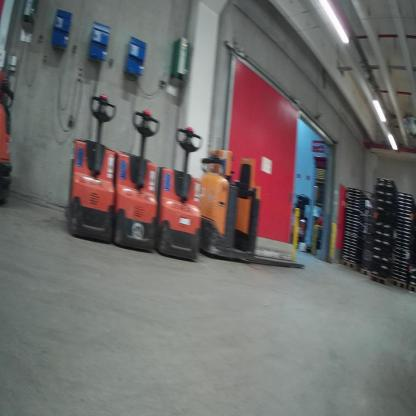pallet: (338, 254, 372, 279), (369, 270, 392, 287), (391, 275, 406, 291), (406, 283, 415, 294)
pallet_truck: (201, 129, 308, 274), (59, 85, 124, 250), (109, 101, 168, 254), (155, 108, 210, 269), (1, 58, 17, 220)
